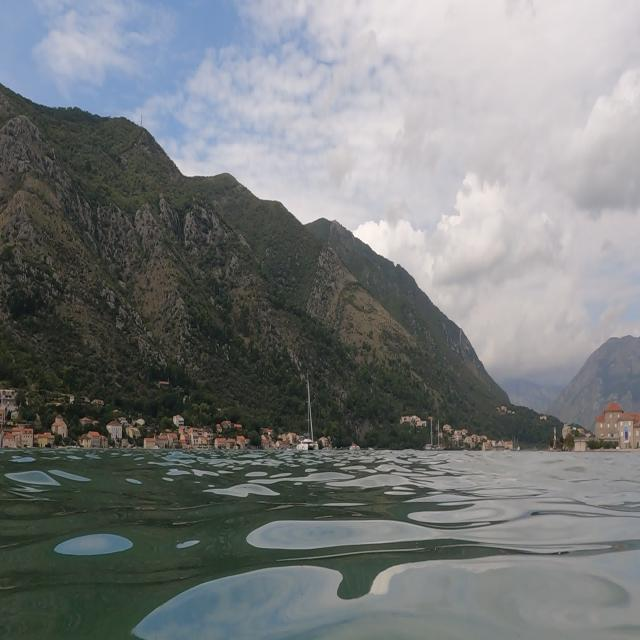boat: (295, 368, 320, 454)
